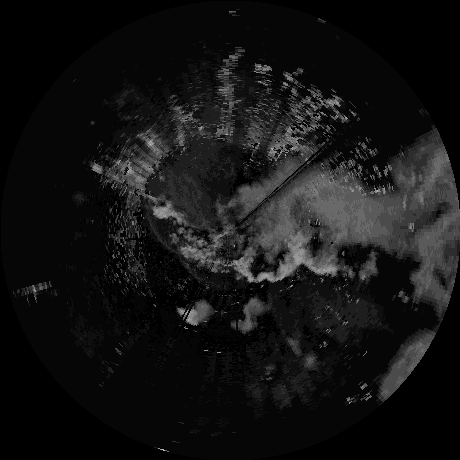frontgust: (147, 208, 174, 250), (181, 260, 205, 284)
